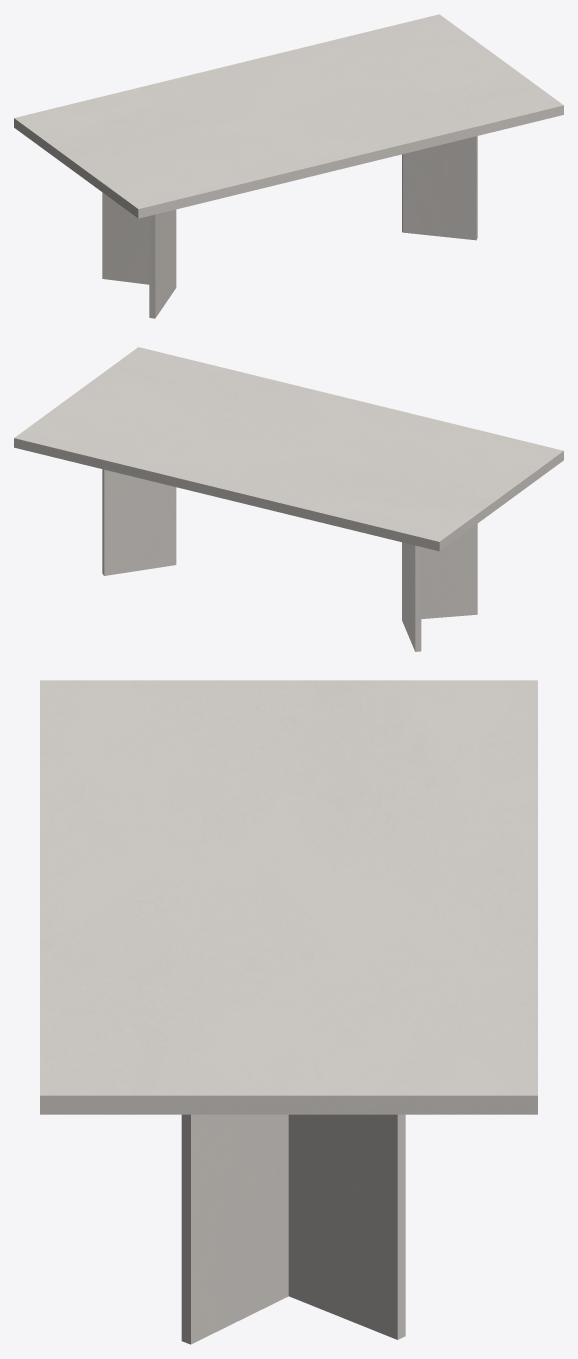
File: pearlwhite_recta_standard_valleyv.glb
The picture shows the model from 3 angles, top to bottom: view 1: azimuth 30°, elevation 25°; view 2: azimuth 150°, elevation 25°; view 3: azimuth 270°, elevation 25°; orthographic projection. The views are drawn at different scales.
Parts seen in each view (by area): view 1: standard_recta, valleyv; view 2: standard_recta, valleyv; view 3: standard_recta, valleyv.
Part boxes in pixels (x1,y1,x2,y2): standard_recta: (14, 14, 563, 218); valleyv: (102, 136, 477, 318); standard_recta: (14, 347, 563, 551); valleyv: (102, 469, 477, 651); standard_recta: (40, 680, 537, 1114); valleyv: (181, 1114, 405, 1344).
Size of the model in its own units: 7.5 by 2.5 by 3.8.
Materials: 1 (1 with a texture image).
